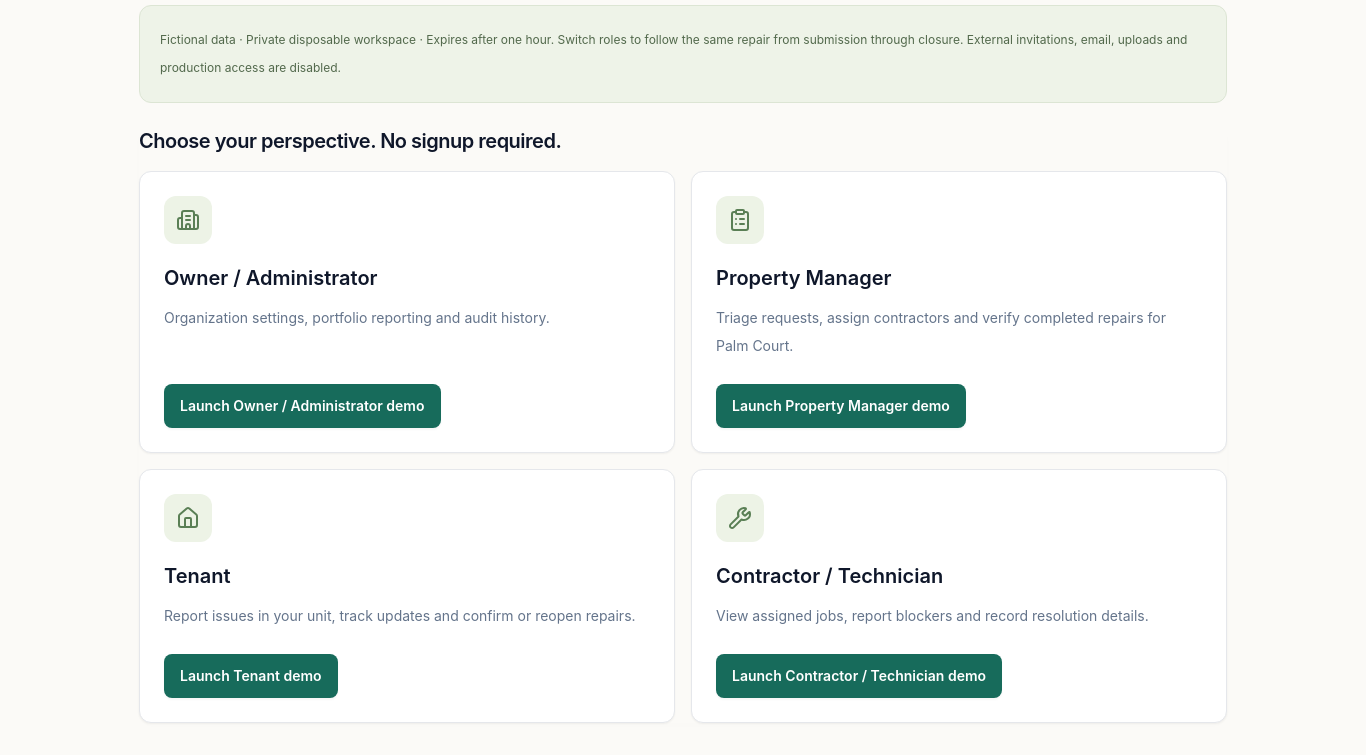
offers every role and launches a server-managed workspace without credentials
(page scrolled)
Expected: the button "Launch Property Manager demo" is shown, x1=716 y1=384 x2=966 y2=428
Step 1. Click the button "Launch Tenant demo" → (251, 676), box x1=164 y1=654 x2=338 y2=698
(page scrolled)
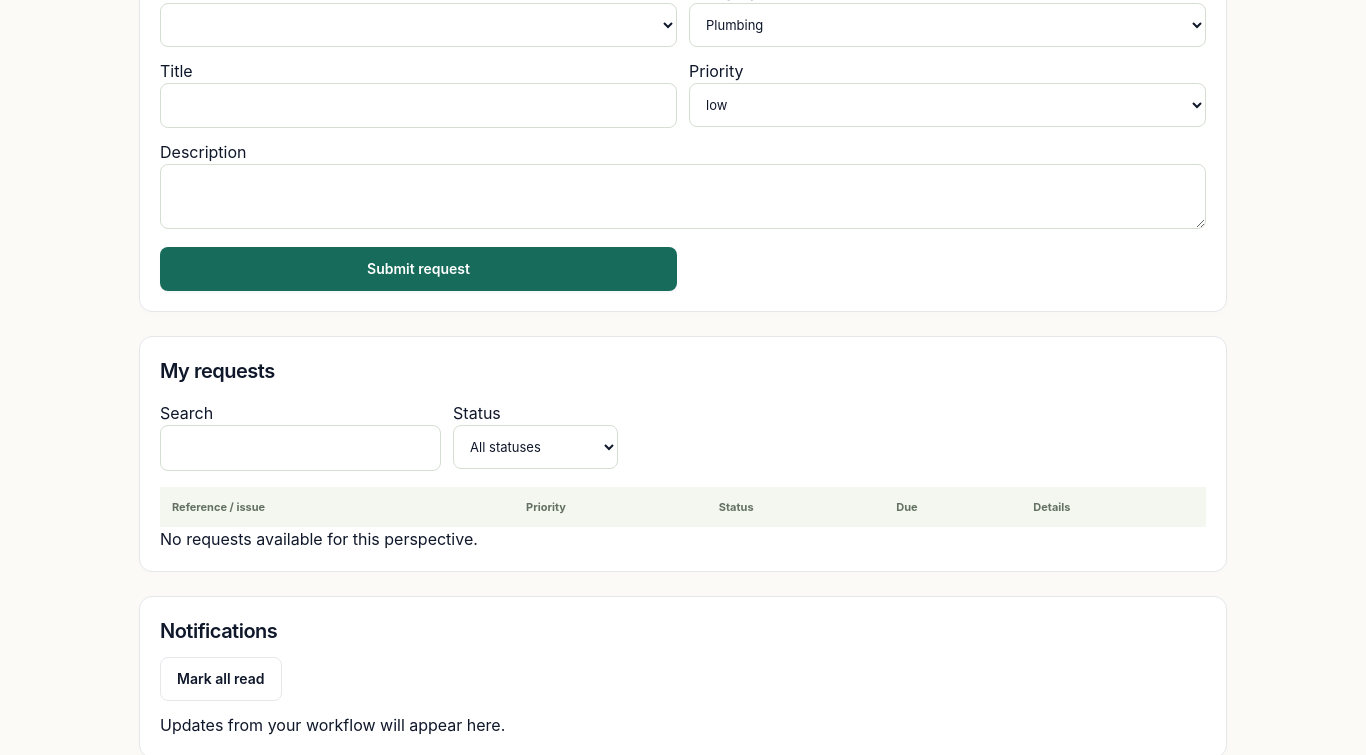
Now the heading "My requests" is shown, box x1=160 y1=359 x2=275 y2=383
